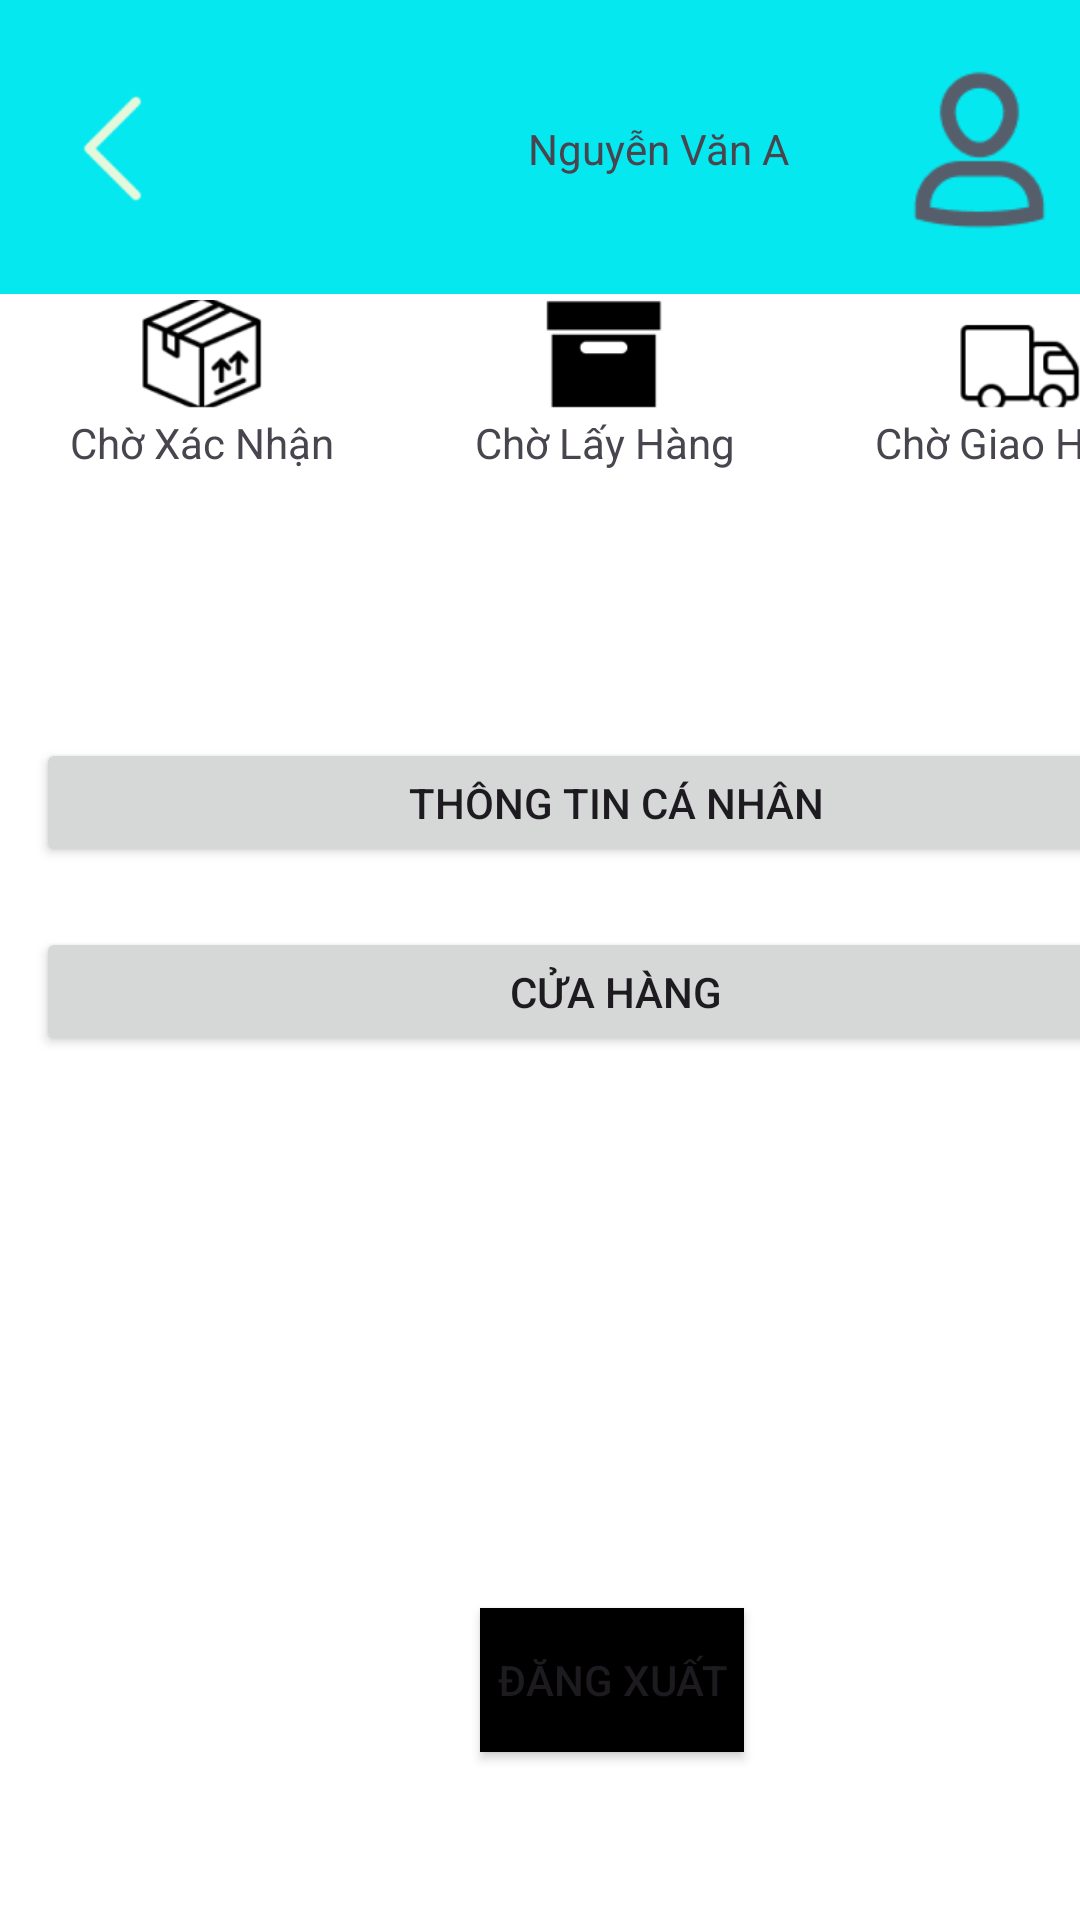

Icons on this 1080px×1920px Android screen, each with its box as (x1, y1, x2, y2):
back: (83, 96, 142, 201)
profile: (914, 72, 1045, 228)
